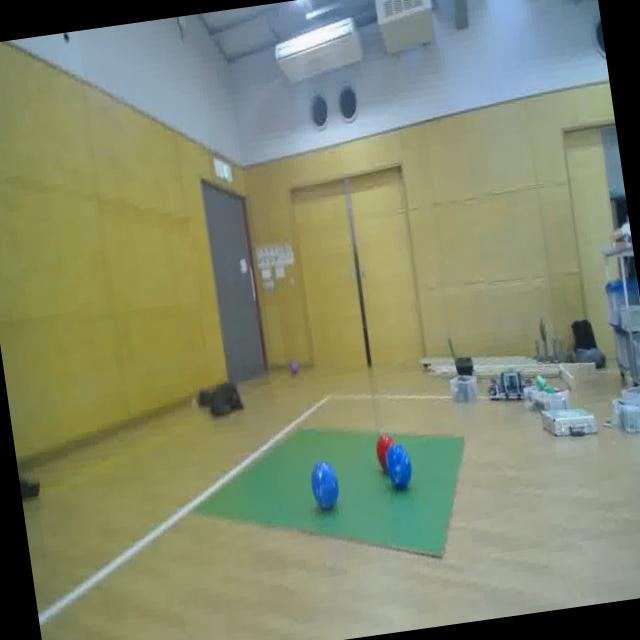blue_ball: (306, 457, 344, 513), (384, 438, 414, 492)
purple_ball: (288, 357, 300, 376)
red_ball: (374, 430, 398, 473)
